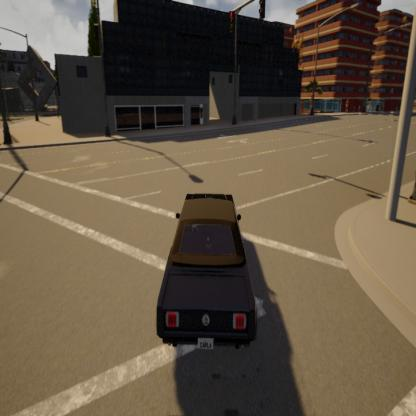Cars: (156, 189, 257, 354)
